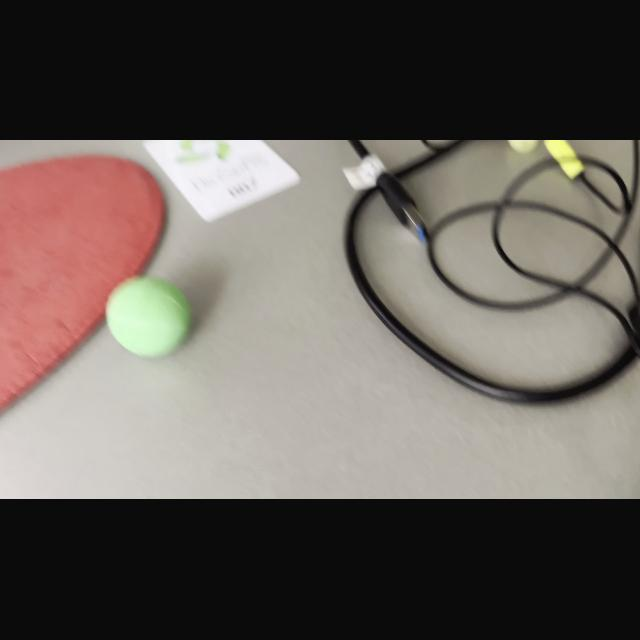objects: (96, 271, 206, 361)
